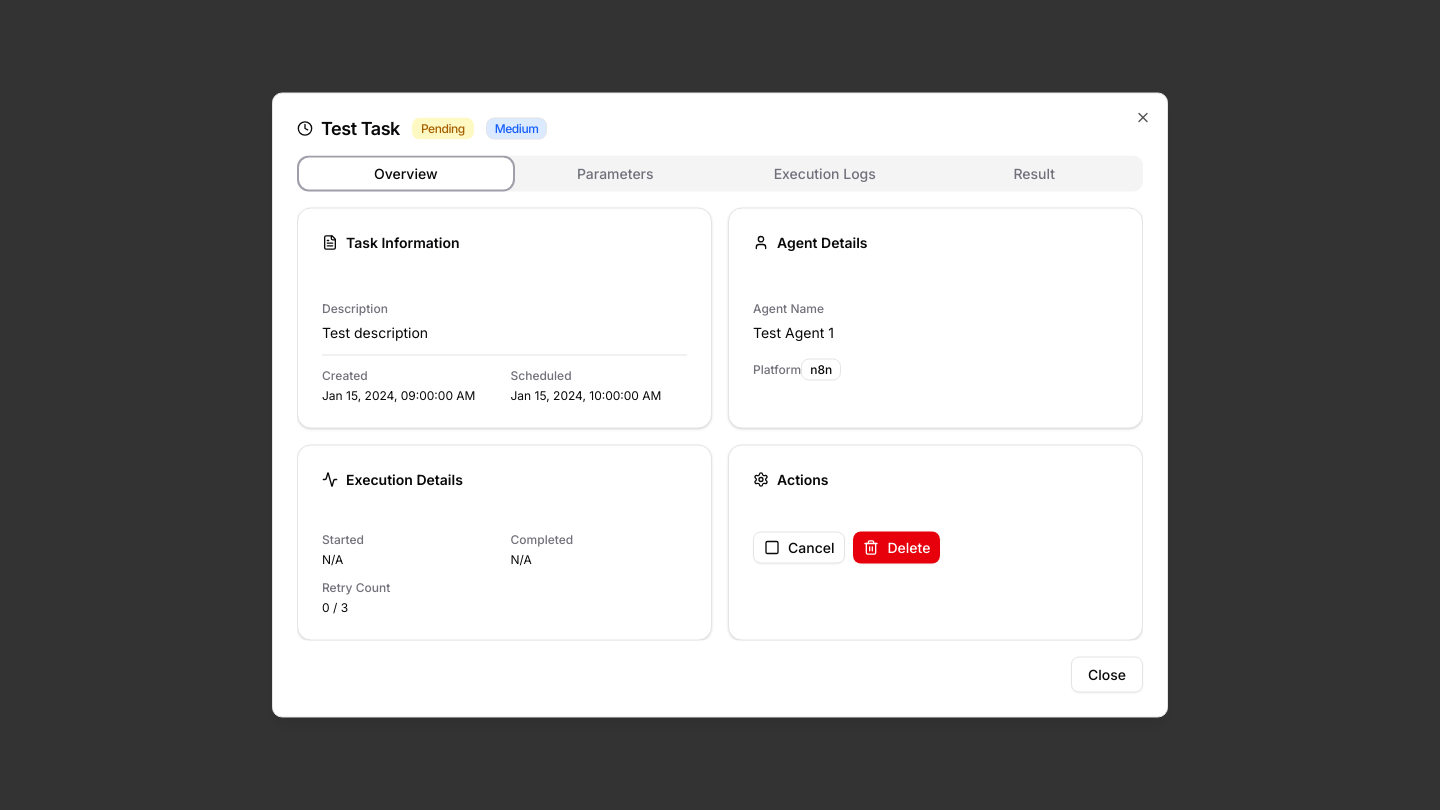
TaskDetailModal › shows no parameters message when parameters are empty
What coordinates should you click on to do the following:
click the tab "Parameters"
I would click on:
 (615, 174)
Its box is [510,160,720,188].
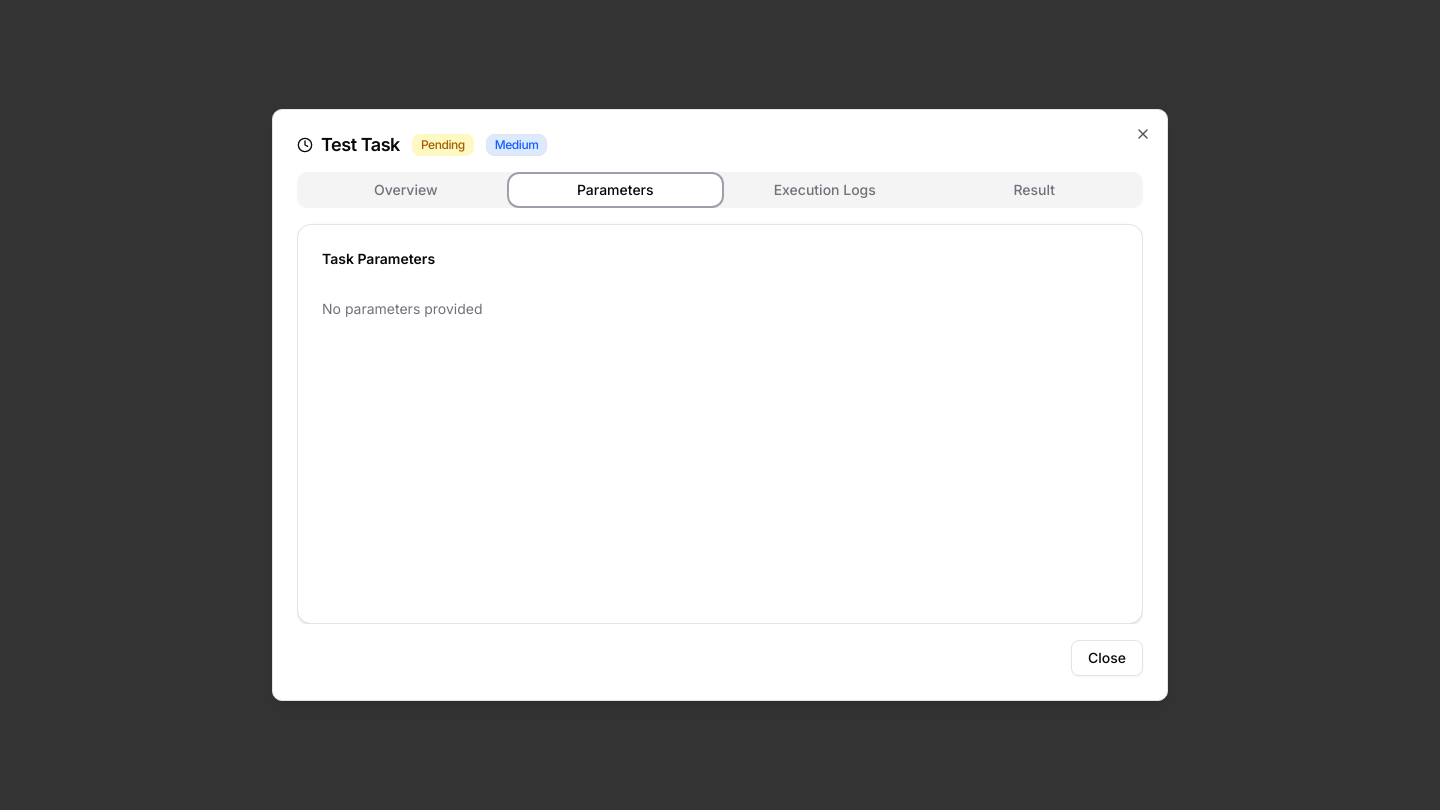
Check: the text "No parameters provided" is shown, box [322,300,482,317]
